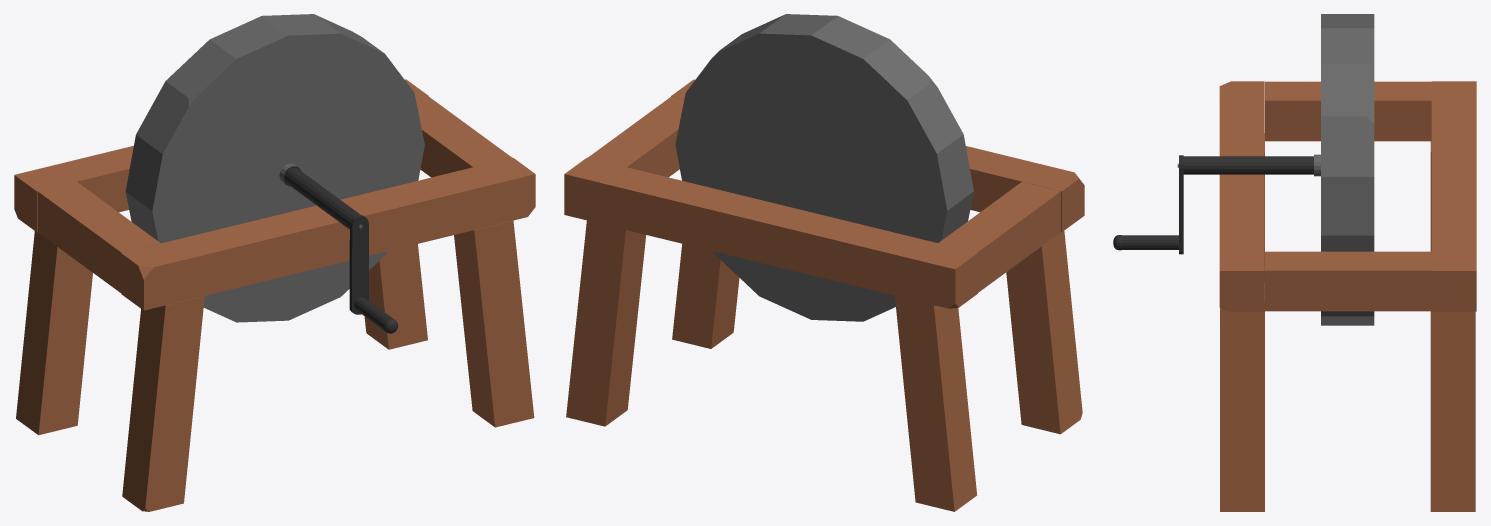
File: grinding.obj
3 views of the same model, side by side, from view 1: azimuth 30°, elevation 25°; view 2: azimuth 150°, elevation 25°; view 3: azimuth 270°, elevation 25° (orthographic).
Parts seen in each view (by area): view 1: grinding; view 2: grinding; view 3: grinding.
Part boxes in pixels (bbox=[...]): grinding: bbox=[14, 14, 535, 511]; grinding: bbox=[564, 14, 1084, 511]; grinding: bbox=[1113, 14, 1476, 511].
Size of the model in its own units: 0.4474 by 0.4286 by 0.3624.
